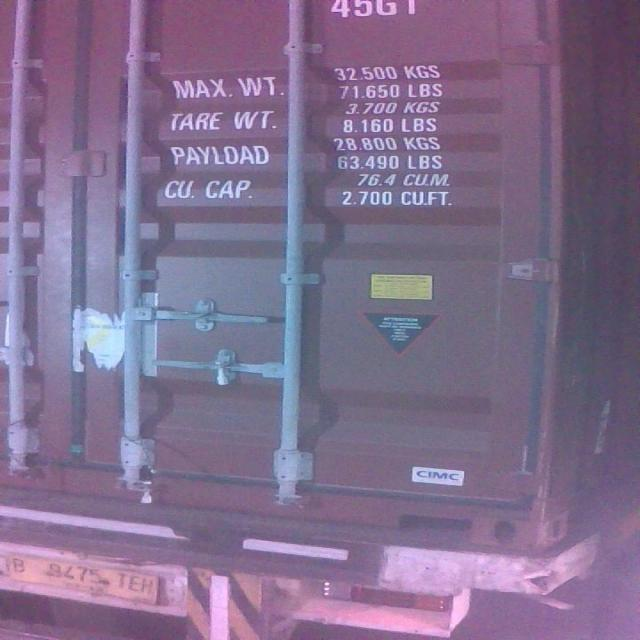seal: (212, 356, 236, 387), (137, 475, 156, 505)
